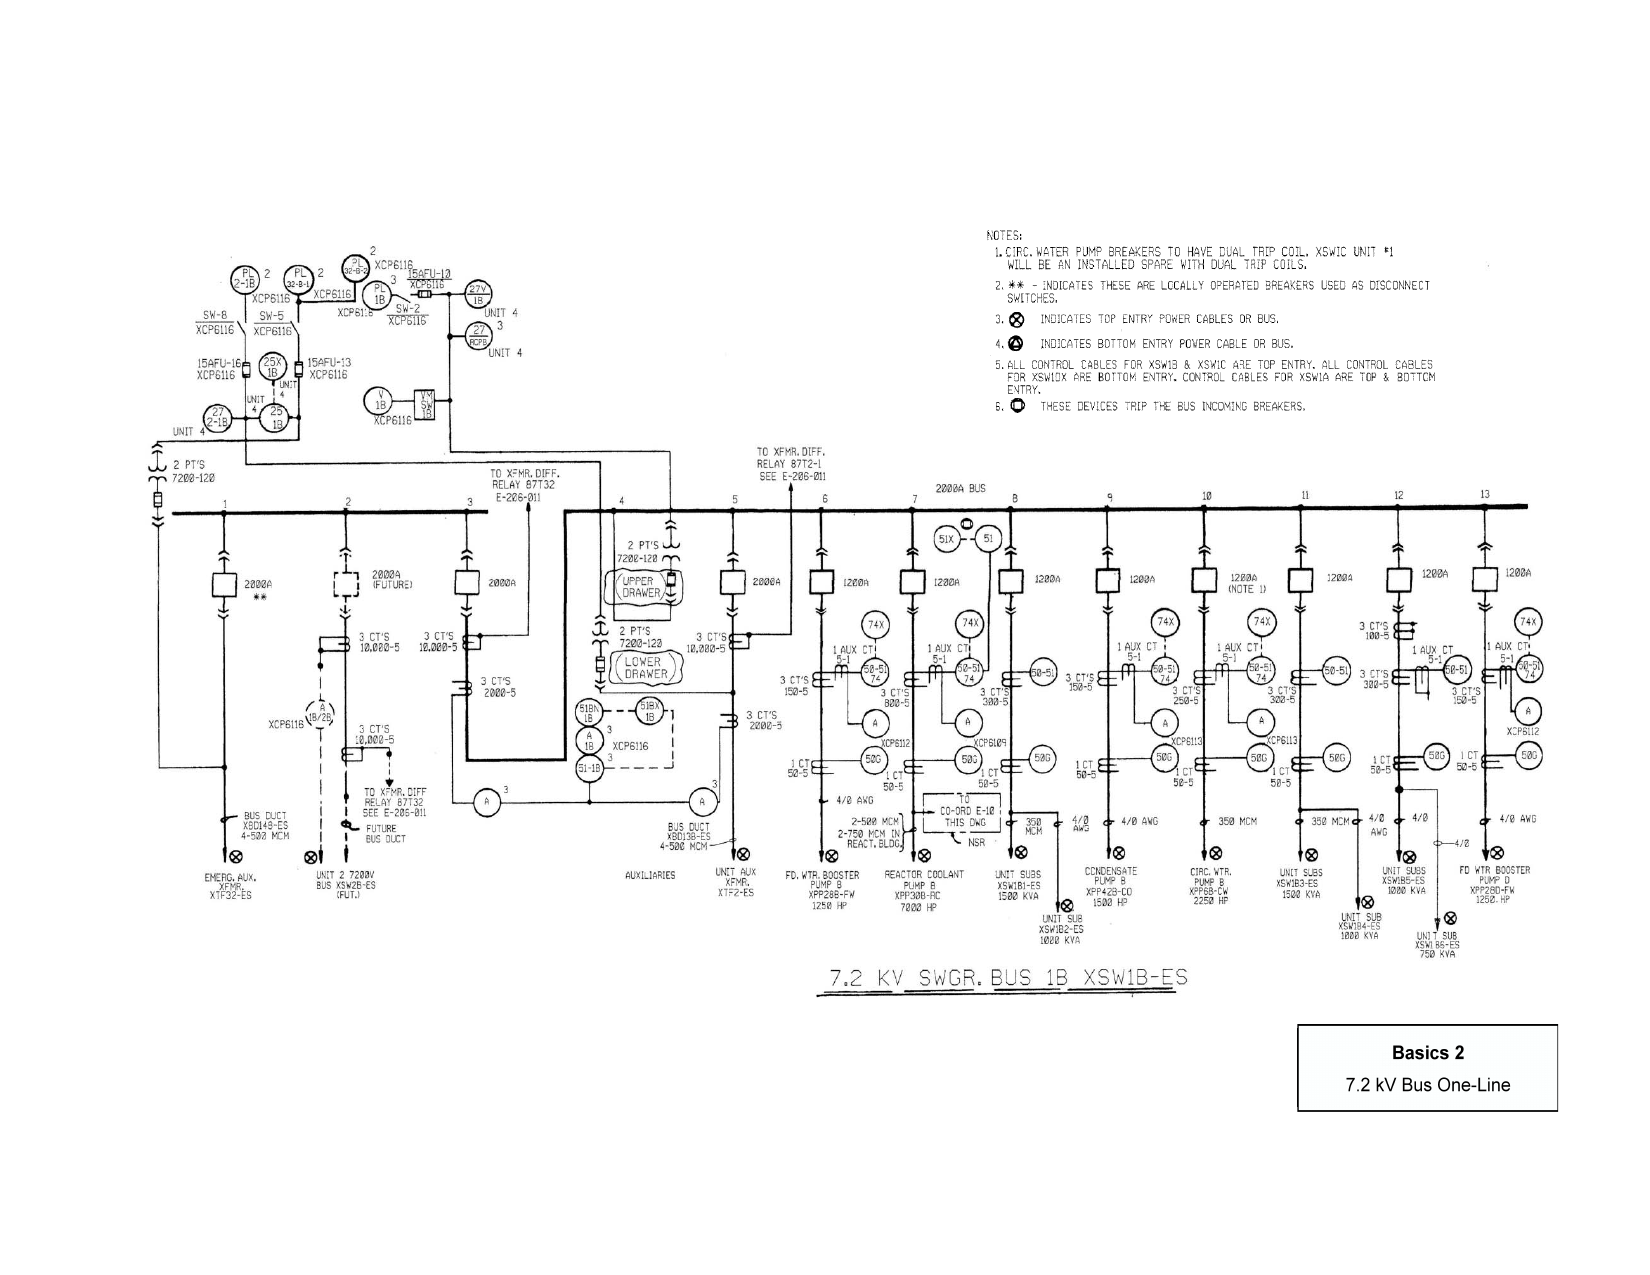fuse: (233, 354, 254, 388), (291, 351, 308, 384), (412, 288, 442, 303)
switch: (224, 307, 256, 343), (283, 311, 309, 340), (388, 288, 414, 307)
transformer: (647, 534, 690, 568)
